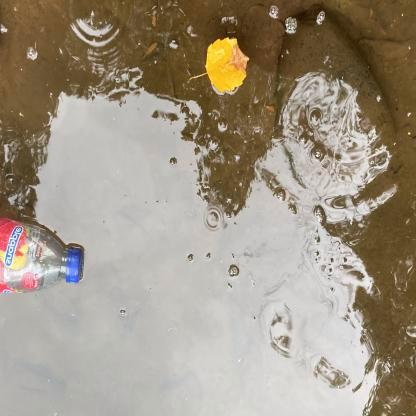Plastic: (0, 208, 92, 301)
